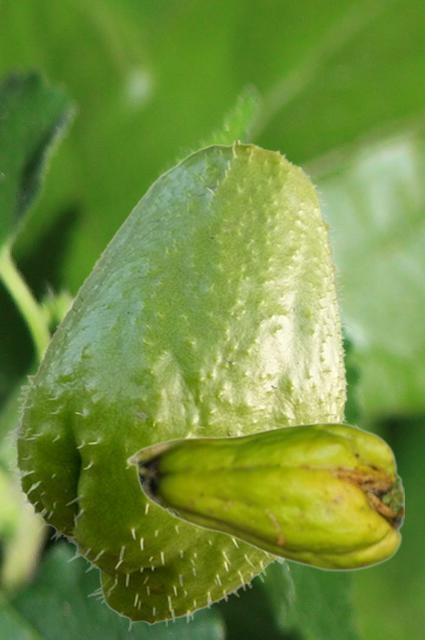sayote: (4, 140, 350, 630), (125, 421, 403, 571)
